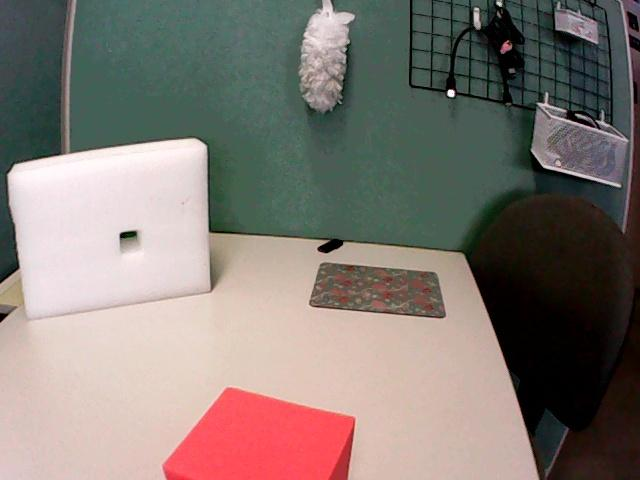red_block: (163, 388, 354, 479)
